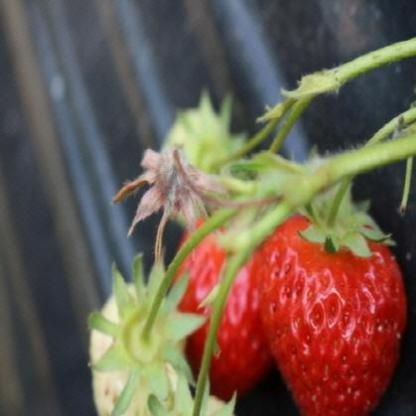Strawberry_Gray_Mold: (111, 143, 230, 262)
